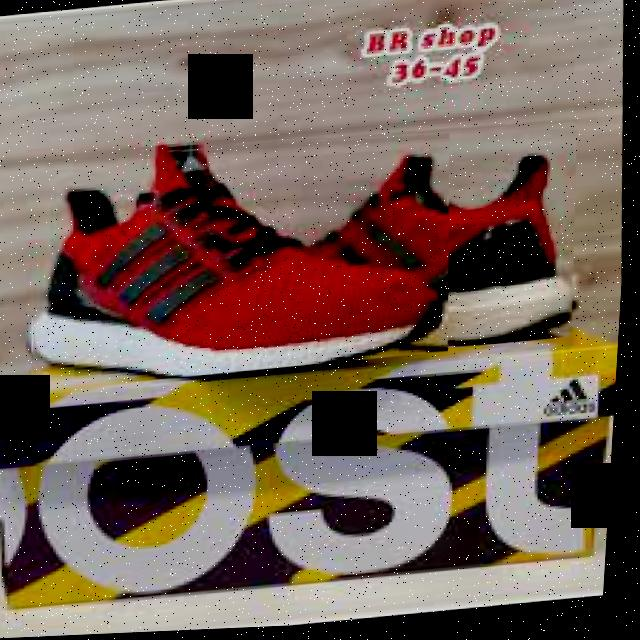shoe: (24, 113, 591, 390), (23, 123, 464, 393)
